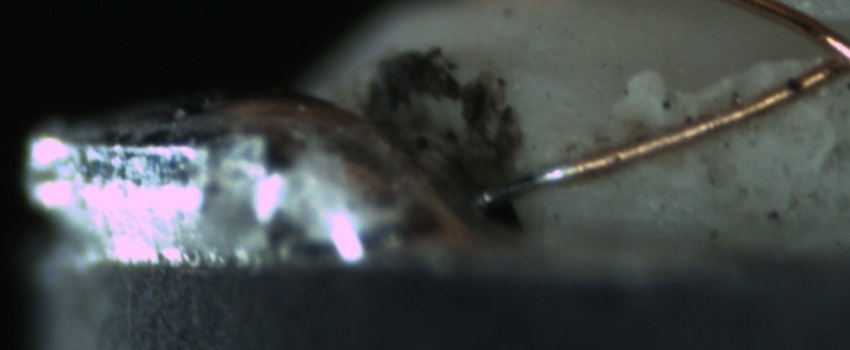CL: (800, 12, 849, 89)
TS: (467, 162, 569, 208)
